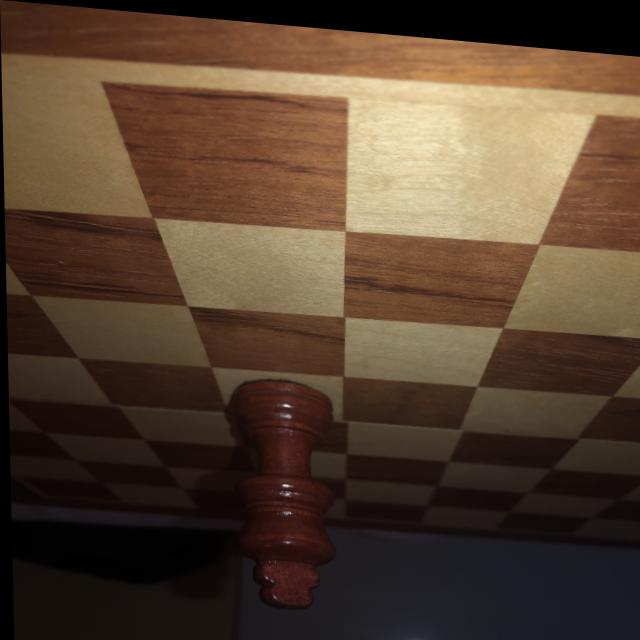black_king: (224, 370, 336, 609)
